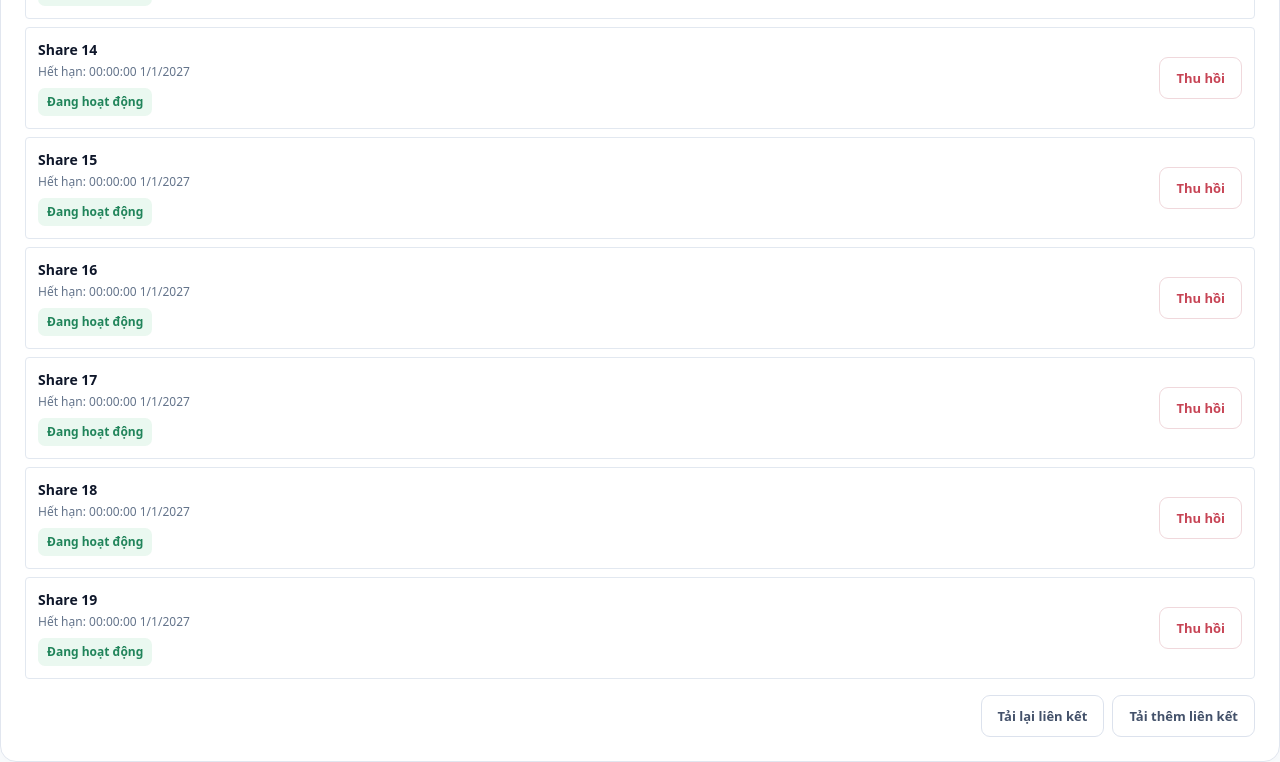
Scenario: retains pages on page-2 error, retries, deduplicates and revokes page 2 without resetting pages
Later steps or results of the test are not shown.
(page scrolled)
Click the button "Tải thêm liên kết": (1184, 716) [1112,695,1255,737]
(page scrolled)
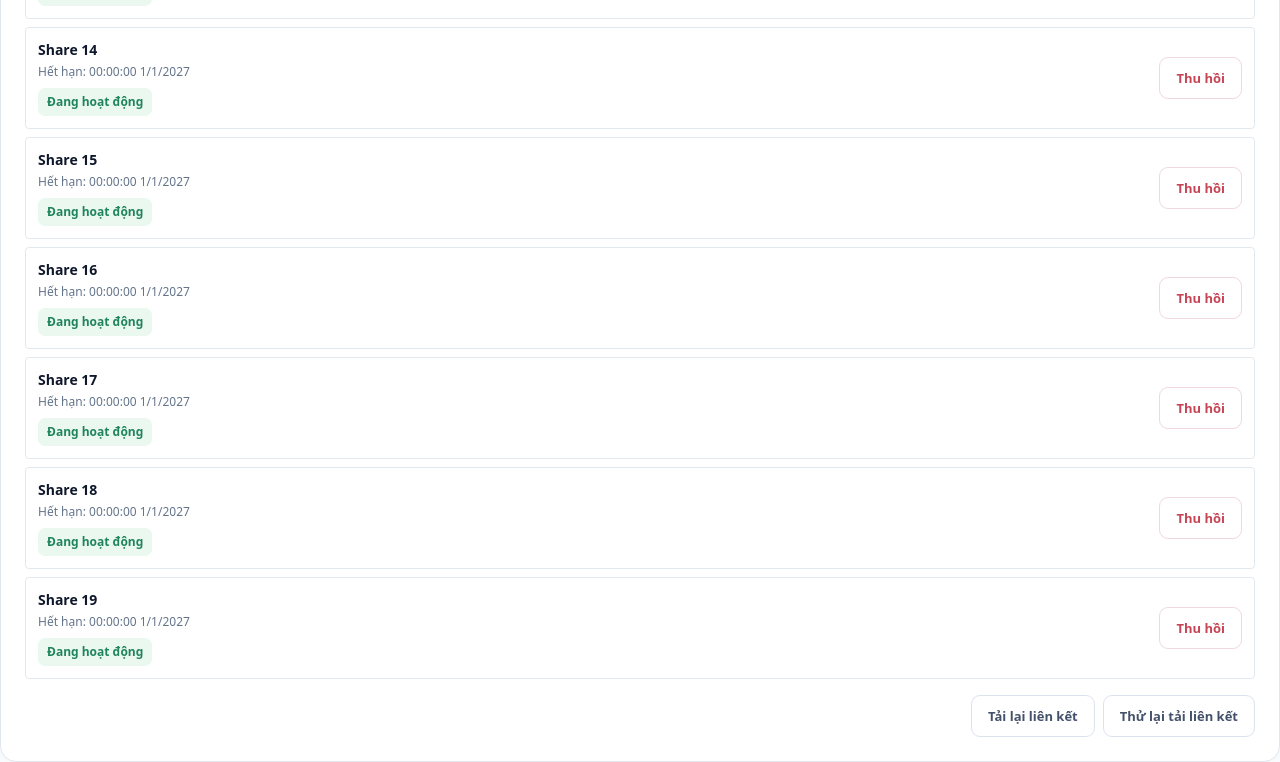
Click the button "Thử lại tải liên kết": (1179, 716) [1103,695,1255,737]
(page scrolled)
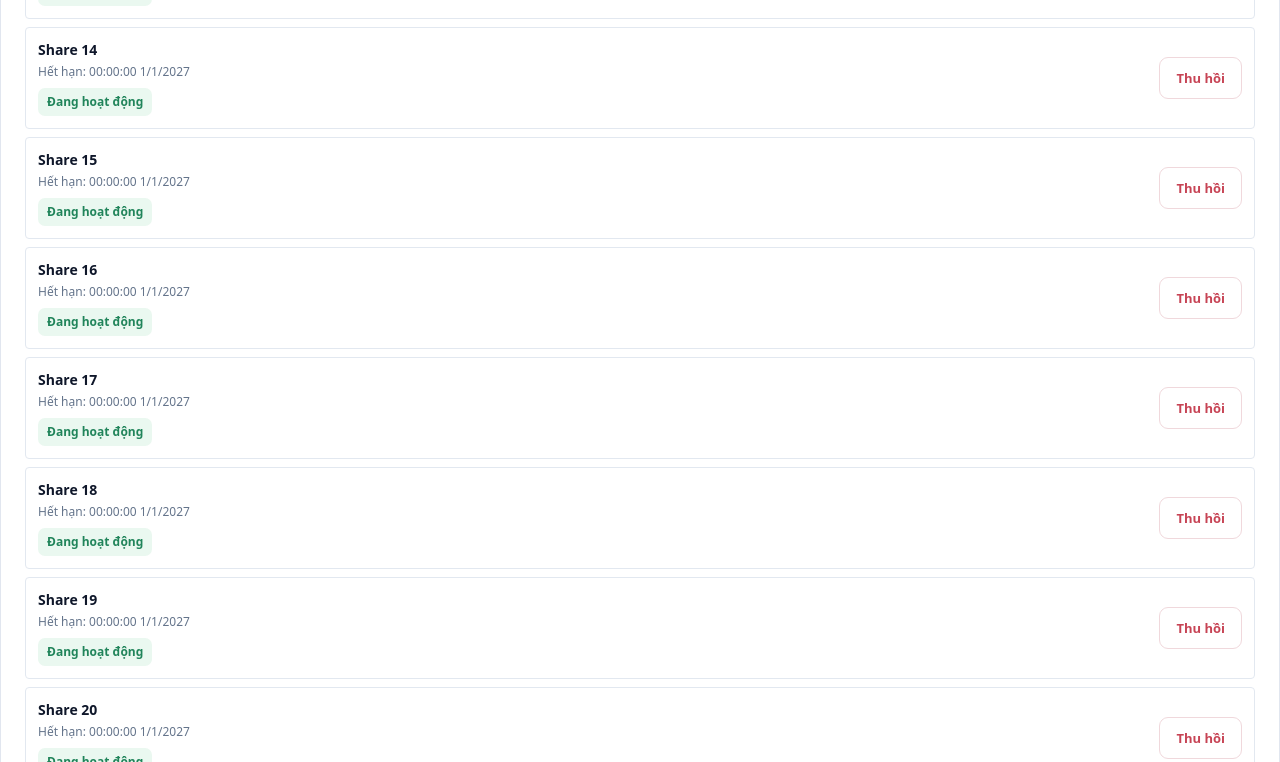
Expected: the text "Share 19" is shown once, [38,590,97,609]
Expected: the text "Share 20" is shown, [38,700,97,719]
